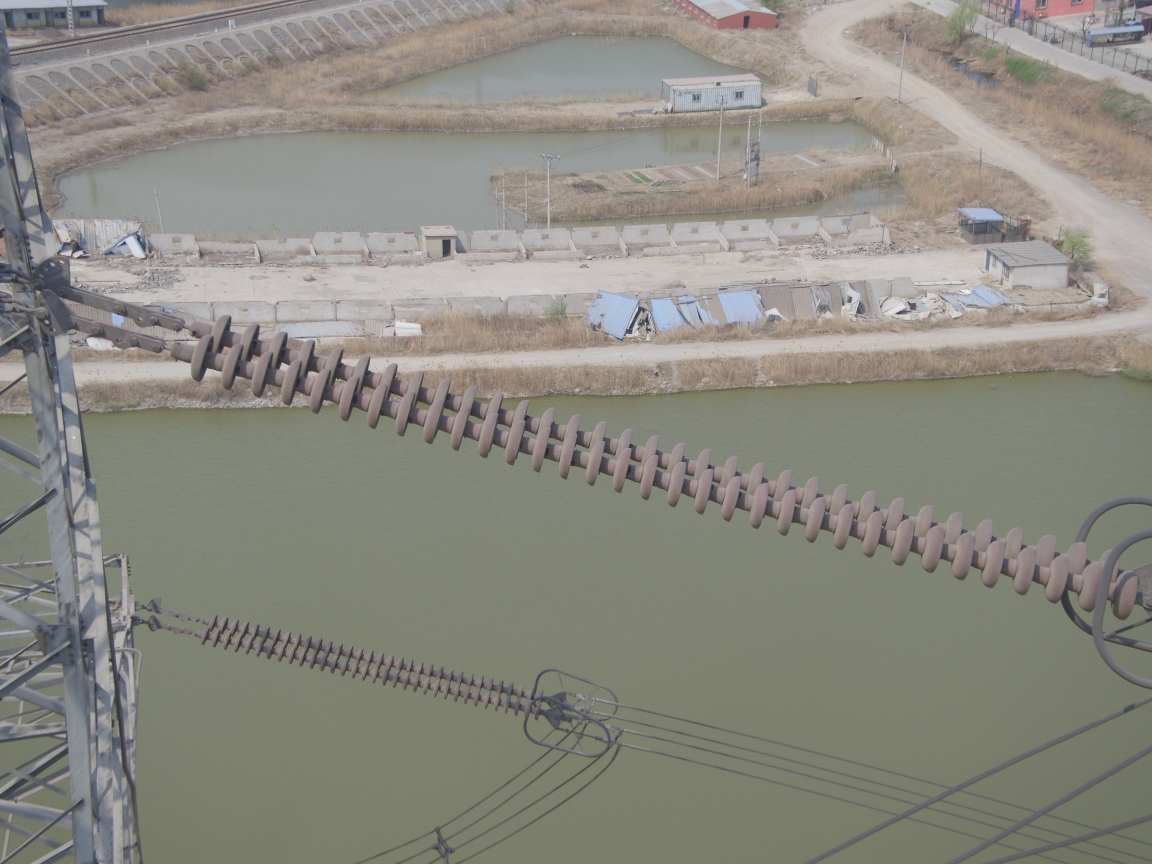insulator: (127, 306, 1152, 627), (165, 610, 554, 724)
